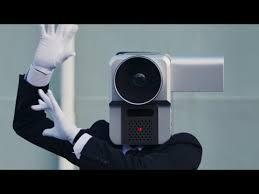no more kid: (103, 44, 230, 151)
